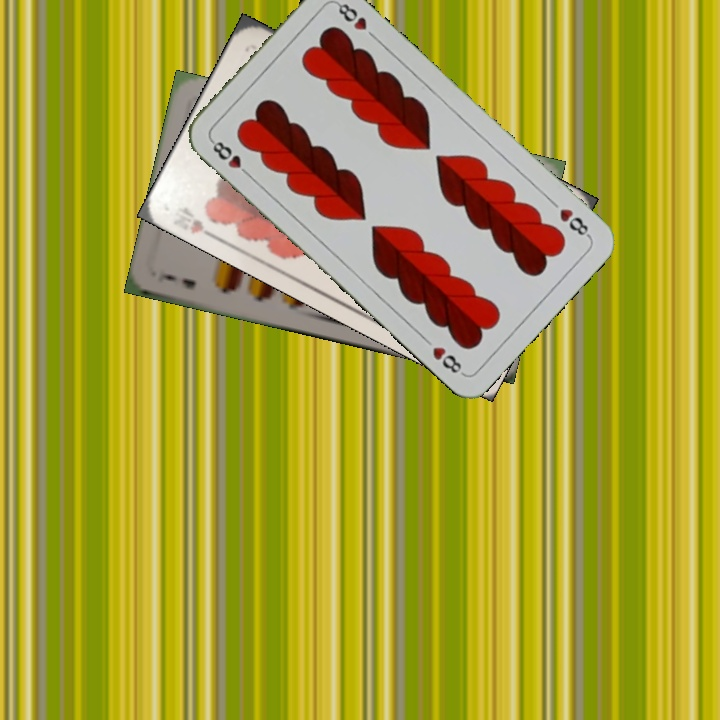E7: (153, 270, 199, 291)
H10: (185, 215, 221, 243)
H8: (206, 135, 254, 180), (555, 204, 593, 240)
